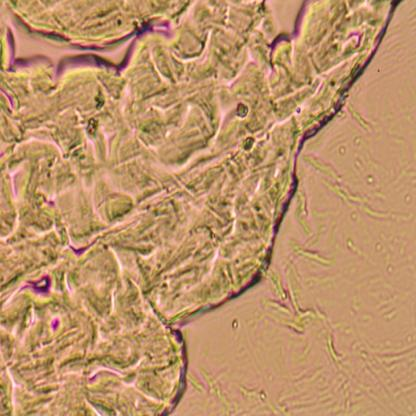Normal: (0, 0, 403, 413)
